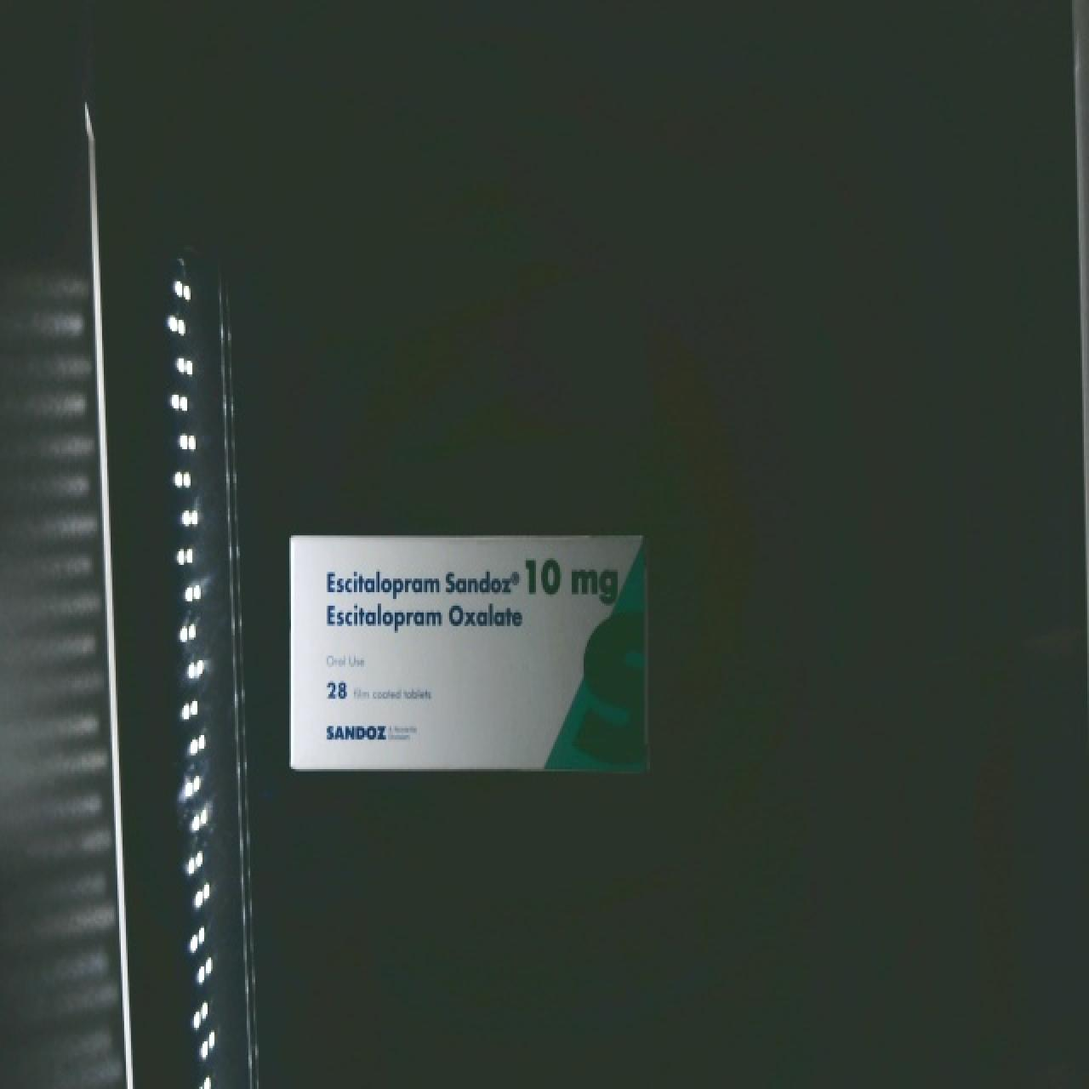medicine_label_obb: (300, 543, 539, 656)
